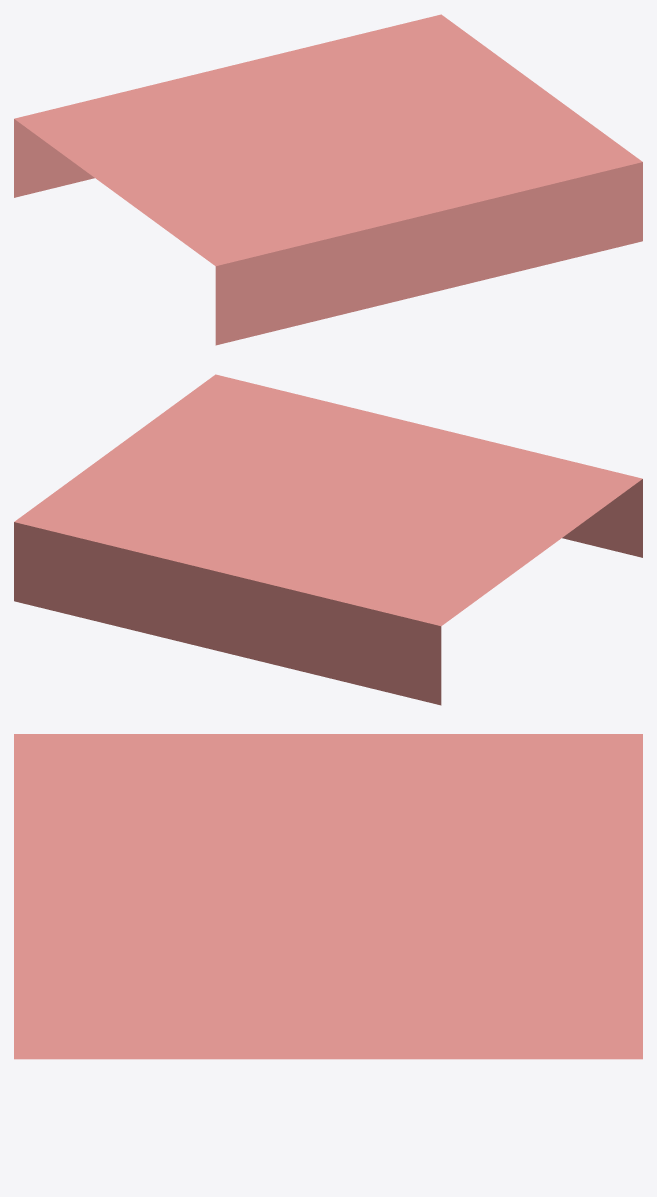
Rendered from tableCloth.dae.
The picture shows the model from 3 angles, top to bottom: view 1: azimuth 30°, elevation 25°; view 2: azimuth 150°, elevation 25°; view 3: azimuth 270°, elevation 25°; orthographic projection. The views are drawn at different scales.
Parts seen in each view (by area): view 1: tableCloth; view 2: tableCloth; view 3: tableCloth.
Part boxes in pixels (box(x1,y1,x2,y2)): tableCloth: box(14, 14, 642, 345); tableCloth: box(14, 374, 642, 705); tableCloth: box(14, 734, 642, 1059).
Bounding box in the file's own units: 0.5475 × 0.4474 × 0.097.
